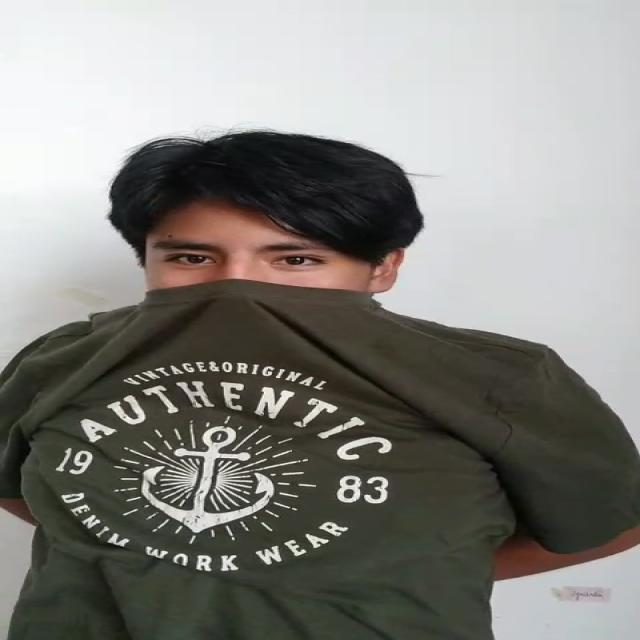8_ropa_rostro: (65, 278, 498, 402)
